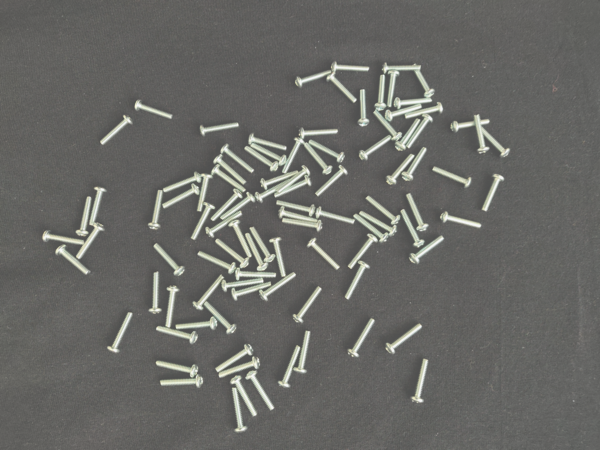longscrew: (385, 323, 429, 356), (347, 318, 379, 358), (346, 234, 378, 274), (229, 374, 258, 416), (248, 370, 277, 412), (344, 263, 375, 302), (293, 284, 324, 323), (95, 116, 134, 146), (148, 244, 185, 275), (160, 184, 204, 210), (217, 358, 261, 384), (256, 176, 300, 202), (132, 95, 176, 120), (440, 209, 484, 234), (430, 165, 474, 190), (159, 370, 203, 395), (214, 345, 258, 370), (393, 116, 423, 152), (189, 200, 214, 243), (159, 167, 202, 192), (155, 355, 198, 380), (407, 115, 437, 150), (193, 275, 221, 312), (57, 245, 89, 277), (206, 300, 236, 334), (277, 174, 312, 203), (408, 236, 443, 265), (383, 155, 418, 184), (212, 165, 248, 193), (307, 240, 343, 268), (276, 165, 312, 193), (225, 220, 252, 257), (316, 167, 349, 197), (364, 198, 402, 224), (221, 145, 256, 173), (214, 156, 249, 184), (261, 272, 296, 300), (110, 312, 133, 354), (371, 110, 402, 140), (212, 241, 249, 266), (401, 211, 426, 248), (399, 148, 426, 182), (283, 138, 308, 174), (360, 212, 397, 236), (354, 217, 389, 242), (359, 134, 390, 162), (231, 283, 274, 303), (244, 234, 267, 271), (199, 120, 241, 140), (156, 327, 198, 347), (176, 314, 218, 334), (147, 187, 166, 231), (145, 269, 164, 313), (227, 388, 246, 432), (484, 171, 503, 215), (192, 254, 236, 273), (249, 226, 272, 262), (222, 195, 255, 220), (163, 284, 182, 327), (252, 145, 289, 167), (212, 191, 240, 220), (208, 213, 240, 238), (90, 184, 108, 228), (75, 193, 93, 237), (413, 359, 431, 403), (357, 88, 375, 132), (372, 69, 390, 113), (406, 194, 428, 230), (303, 145, 331, 173), (245, 147, 279, 170), (281, 346, 299, 389), (295, 331, 313, 374), (472, 113, 490, 156), (195, 173, 215, 211), (262, 170, 299, 189), (309, 142, 345, 160), (279, 209, 321, 224), (295, 71, 337, 86), (405, 102, 447, 117), (393, 94, 435, 109), (234, 268, 276, 283), (248, 134, 290, 149), (222, 275, 263, 290), (271, 238, 287, 276), (281, 218, 323, 232), (316, 209, 358, 223), (274, 201, 316, 215), (298, 126, 340, 140), (450, 117, 492, 131), (383, 105, 425, 119), (386, 68, 399, 110)
